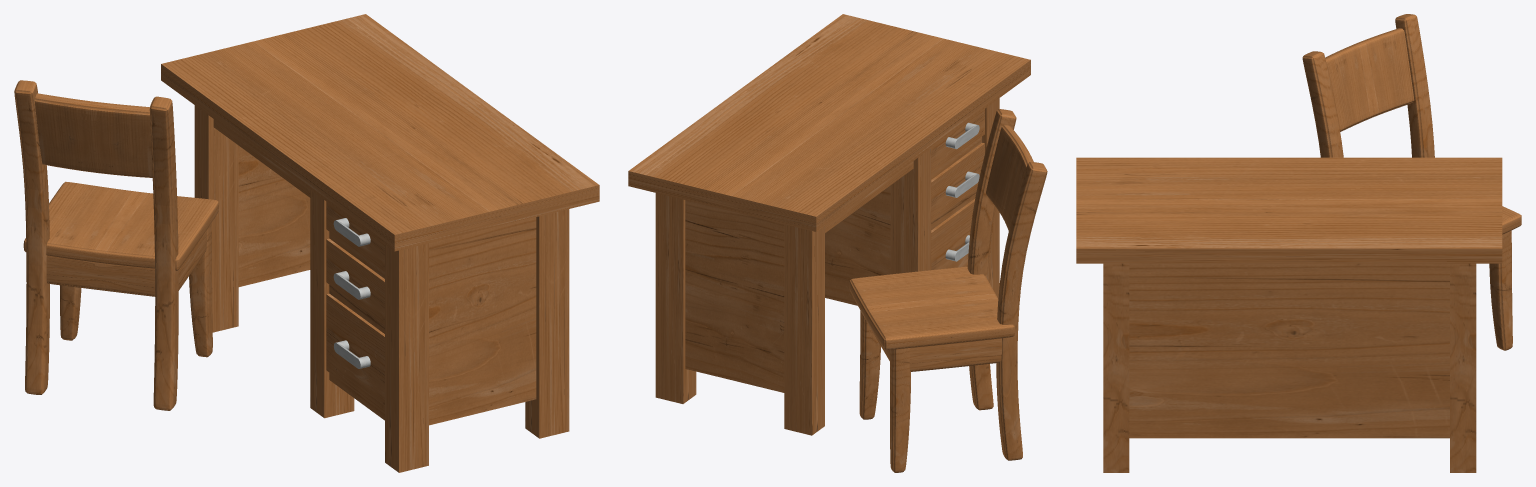
3 renders of one model, left to right at view 1: azimuth 30°, elevation 25°; view 2: azimuth 150°, elevation 25°; view 3: azimuth 270°, elevation 25°, orthographic. The views are drawn at different scales.
Parts seen in each view (by area): view 1: 책상, 의자, 서랍.003; view 2: 책상, 의자, 서랍.003; view 3: 책상, 의자.
Boxes of the visible parts, x1=… form: 책상: x1=161, y1=14, x2=599, y2=472; 의자: x1=14, y1=80, x2=218, y2=410; 서랍.003: x1=326, y1=201, x2=384, y2=271; 책상: x1=628, y1=14, x2=1030, y2=435; 의자: x1=849, y1=109, x2=1047, y2=472; 서랍.003: x1=931, y1=109, x2=984, y2=173; 책상: x1=1076, y1=157, x2=1502, y2=472; 의자: x1=1302, y1=14, x2=1521, y2=350.
Size of the model in its own units: 345 by 261 by 362.
2 materials, 2 textured.
